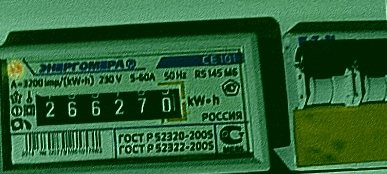0: (159, 93, 171, 114)
2: (42, 97, 57, 119), (112, 96, 125, 116)
6: (65, 98, 78, 119), (89, 97, 102, 116)
7: (135, 94, 148, 114)
screen: (21, 73, 197, 138)
